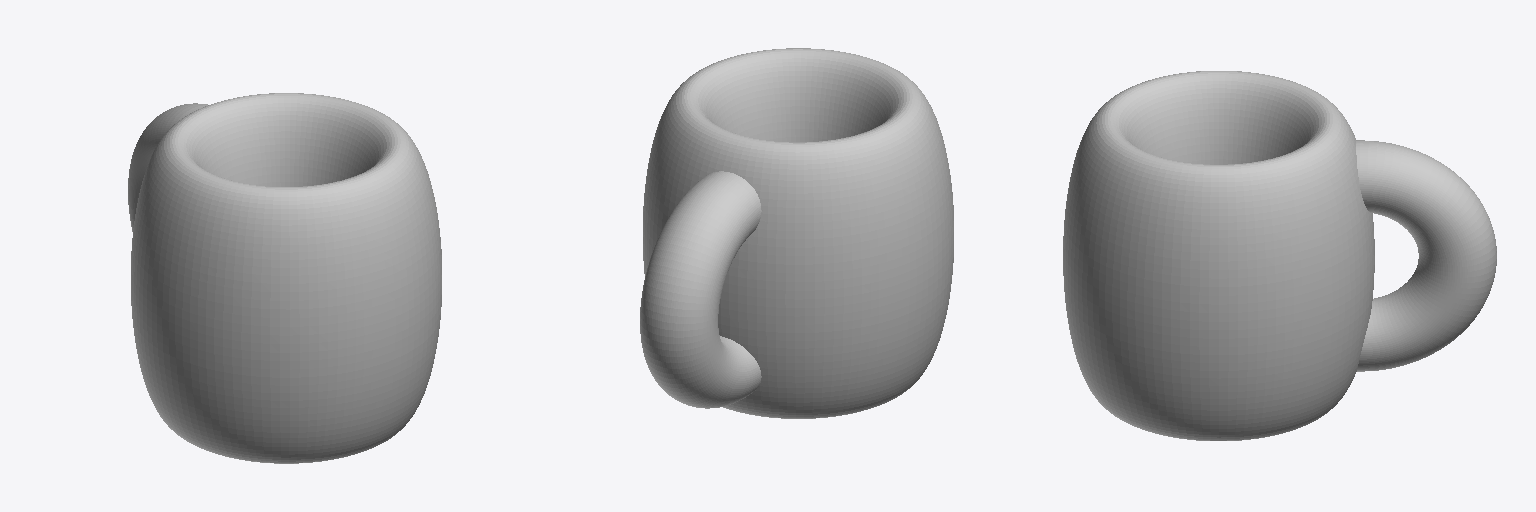
File: Cup1.obj
3 views of the same model, side by side, from view 1: azimuth 30°, elevation 25°; view 2: azimuth 150°, elevation 25°; view 3: azimuth 270°, elevation 25° (orthographic).
Parts seen in each view (by area): view 1: Object.1; view 2: Object.1; view 3: Object.1.
Part boxes in pixels (x1,y1,x2,y2): Object.1: (128, 93, 441, 463); Object.1: (640, 48, 953, 418); Object.1: (1063, 71, 1496, 440).
Bounding box in the file's own units: 0.0719 × 0.0697 × 0.1.